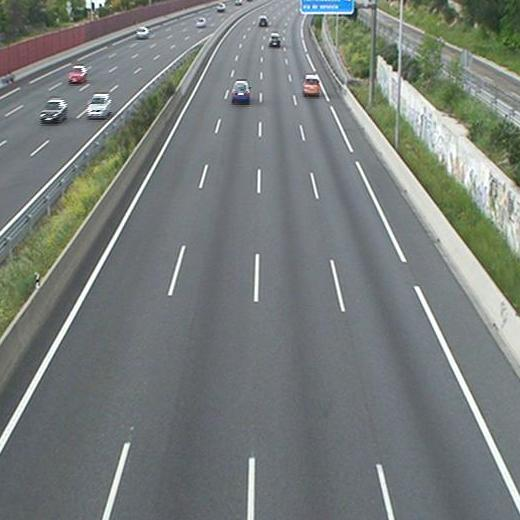car: (231, 79, 250, 103), (303, 74, 321, 98), (269, 32, 281, 48)
